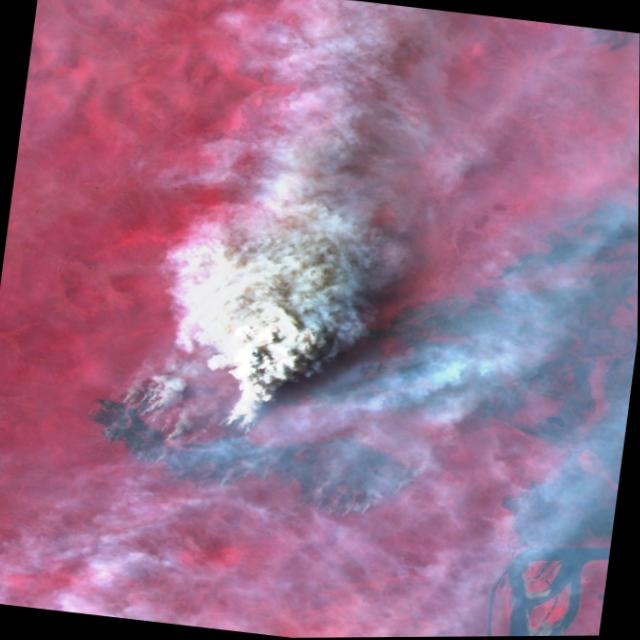fire: (66, 343, 482, 538)
